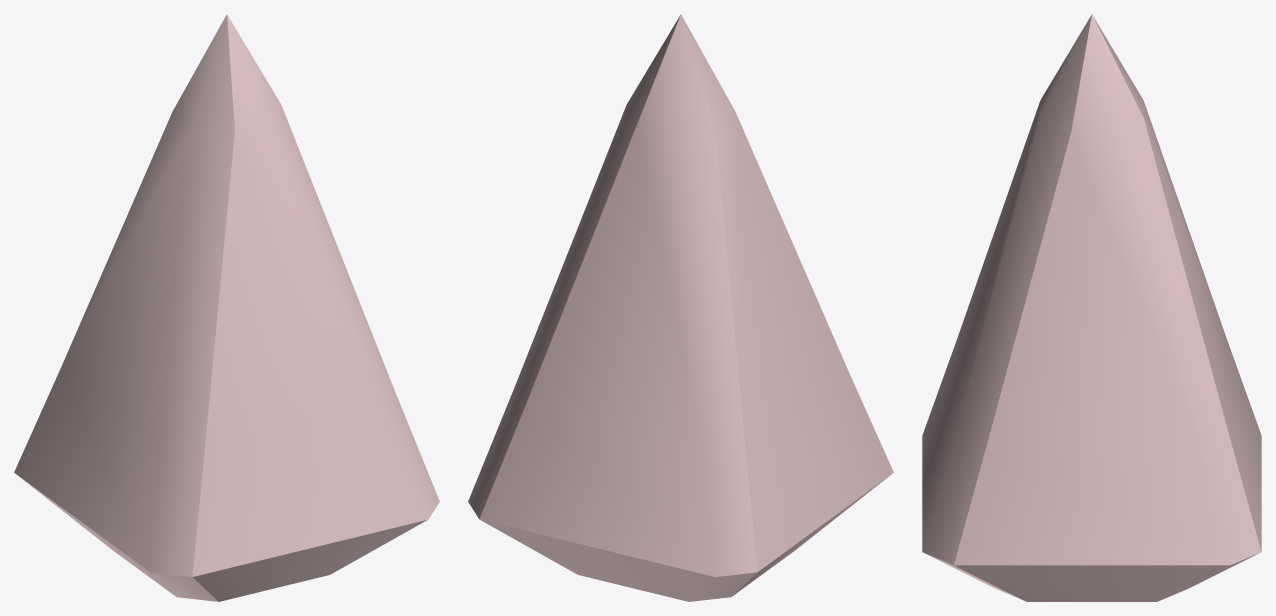
The model's file is SM_Crystal_02.fbx.
The picture shows the model from 3 angles, left to right: view 1: azimuth 30°, elevation 25°; view 2: azimuth 150°, elevation 25°; view 3: azimuth 270°, elevation 25°; orthographic projection.
Visible parts, largest first — view 1: SM_Crystal_02; view 2: SM_Crystal_02; view 3: SM_Crystal_02.
Part boxes in pixels (x1,y1,x2,y2): SM_Crystal_02: (14,14,439,601); SM_Crystal_02: (468,14,893,601); SM_Crystal_02: (922,14,1261,601).
Size of the model in its own units: 66.7 by 119 by 66.7.
